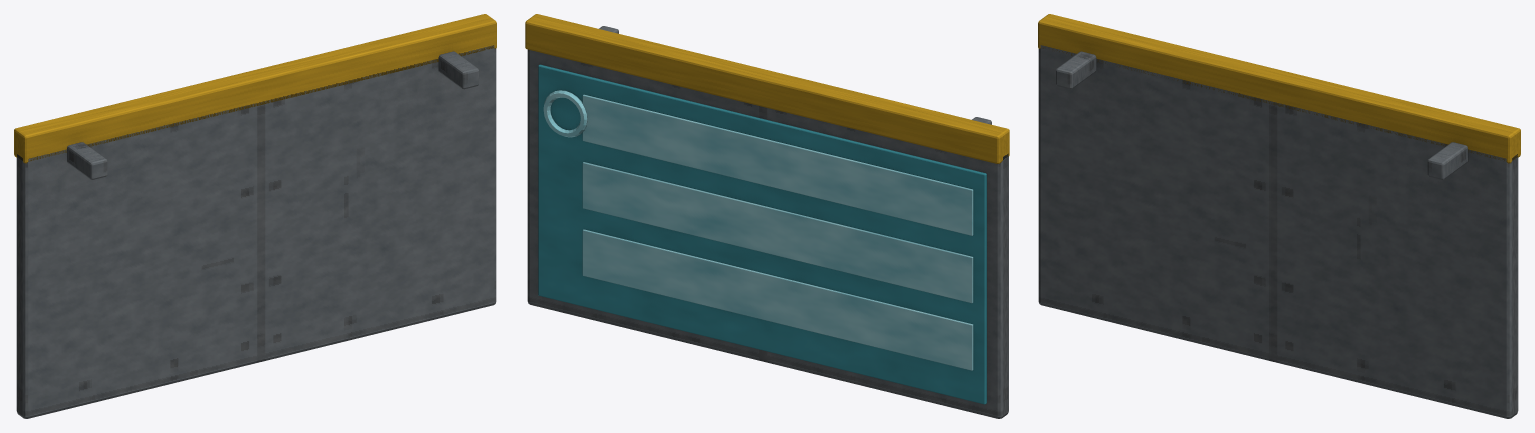
File: base_order_screen.glb
3 views of the same model, side by side, from view 1: azimuth 30°, elevation 25°; view 2: azimuth 150°, elevation 25°; view 3: azimuth 330°, elevation 25° (orthographic).
Parts seen in each view (by area): view 1: base_order_screen; view 2: base_order_screen; view 3: base_order_screen.
Part boxes in pixels (x1,y1,x2,y2): base_order_screen: (14,14,496,418); base_order_screen: (525,14,1009,418); base_order_screen: (1038,14,1520,418).
Bounding box in the file's own units: 2.8 × 1.61 × 0.3973.
Materials: 4 (4 with a texture image).
